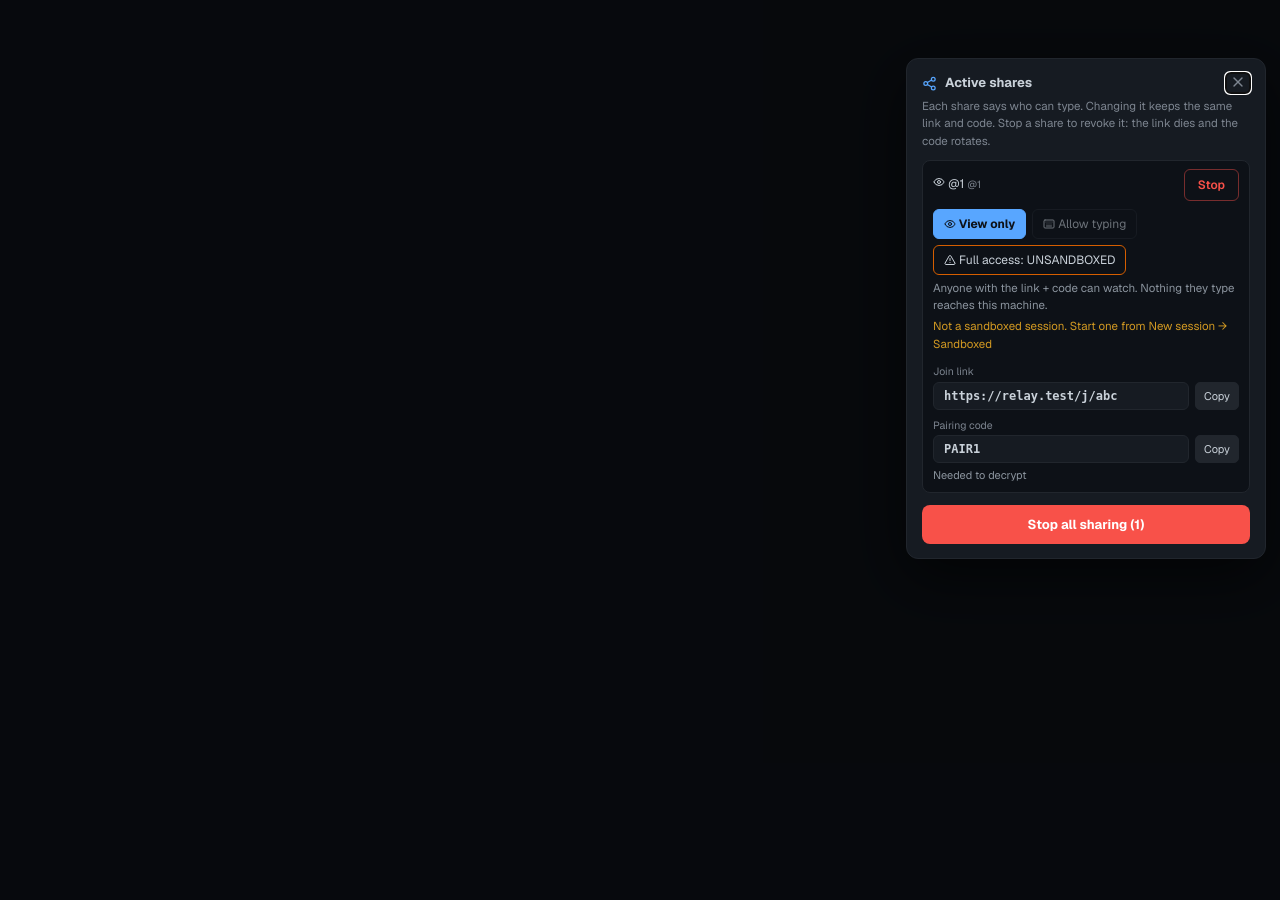
Test: up to UNSANDBOXED POSTs nothing until the window name is typed; the grant then says when it ends
This screenshot has width=1280, height=900.
Click the button "Full access: UNSANDBOXED": (1030,260) [933,245,1126,275]
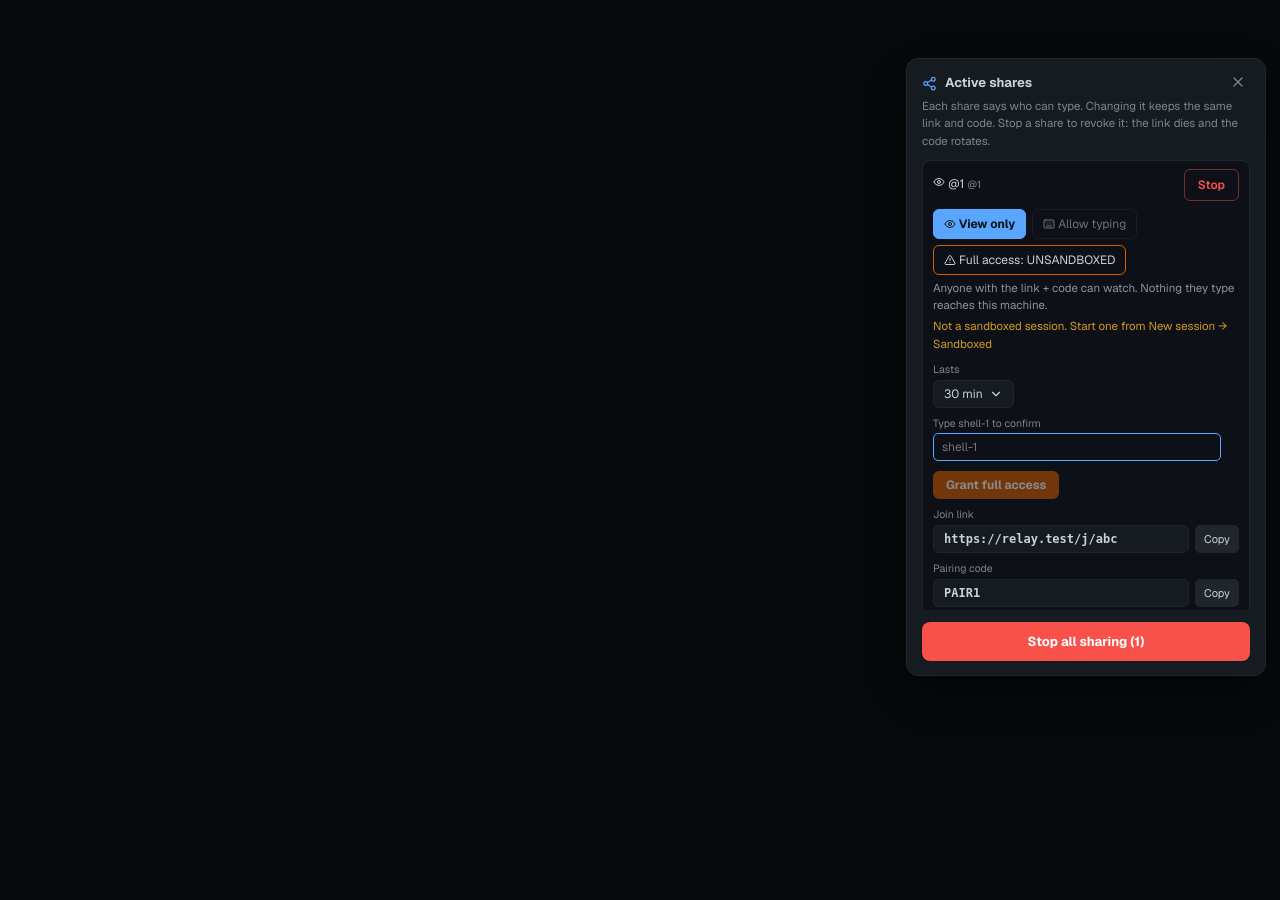
Result: the element with class "ss-unsafe-confirm" is shown at [933,362,1239,463]
Result: the button "Grant full access" is disabled at [933,471,1059,499]
In the field labelled "Type shell-1 to confirm": (1077,447) [933,433,1221,461], type "shell-2"
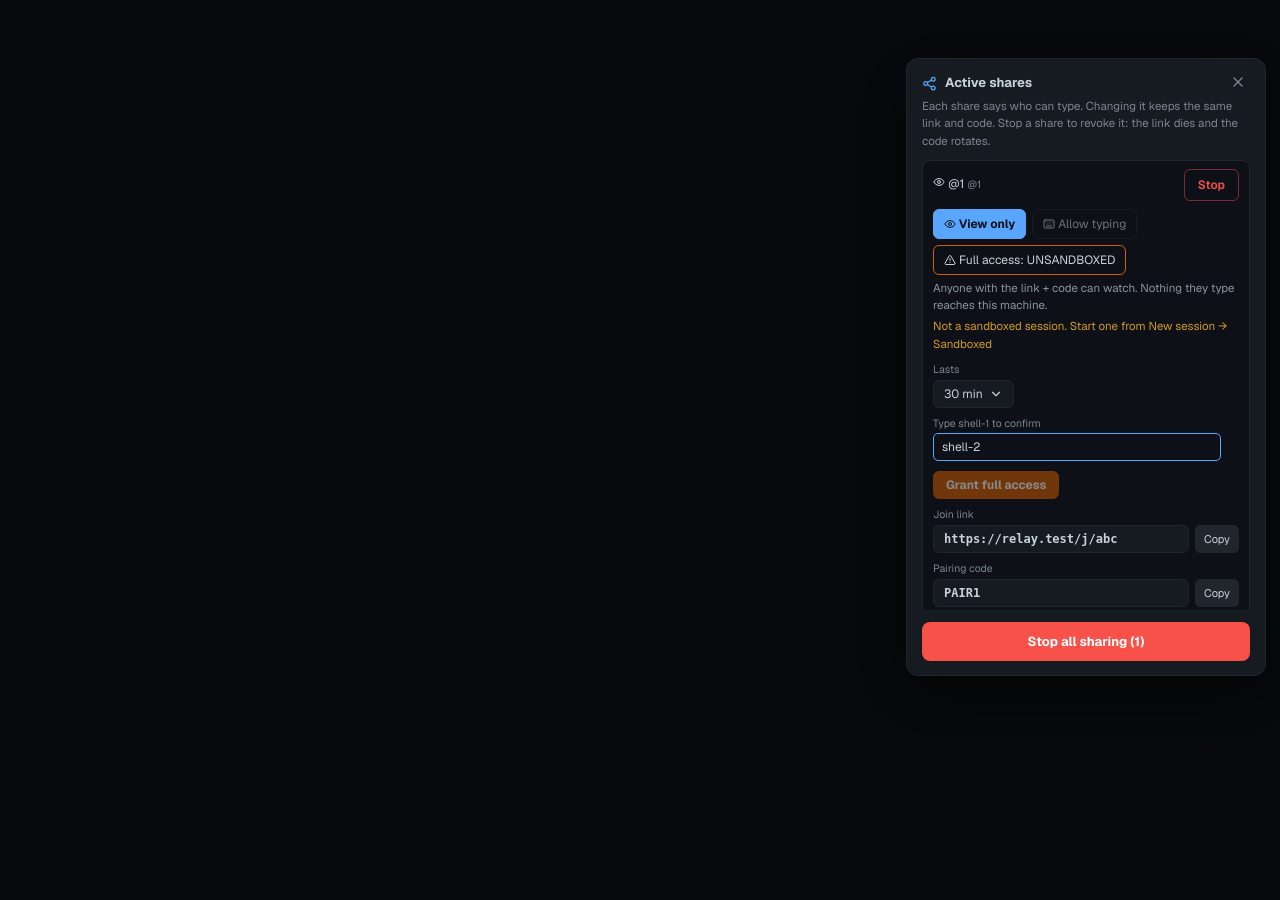
Result: the button "Grant full access" is disabled at [933,471,1059,499]
Replace the text in the field labelled "Type shell-1 to confirm" with "shell-1": (1077,447) [933,433,1221,461]
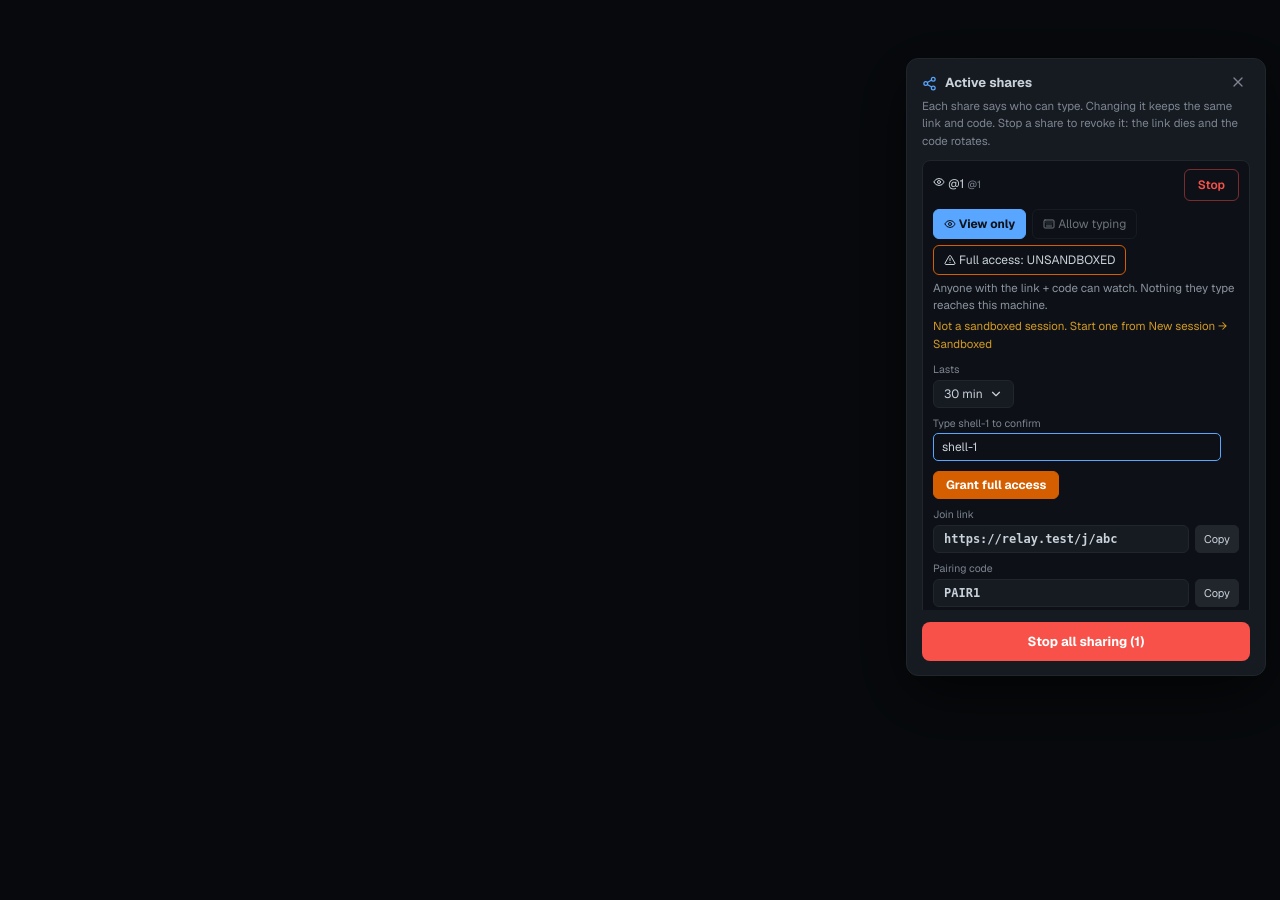
Result: the button "Grant full access" is enabled
Click the button "Grant full access": (996,485) [933,471,1059,499]
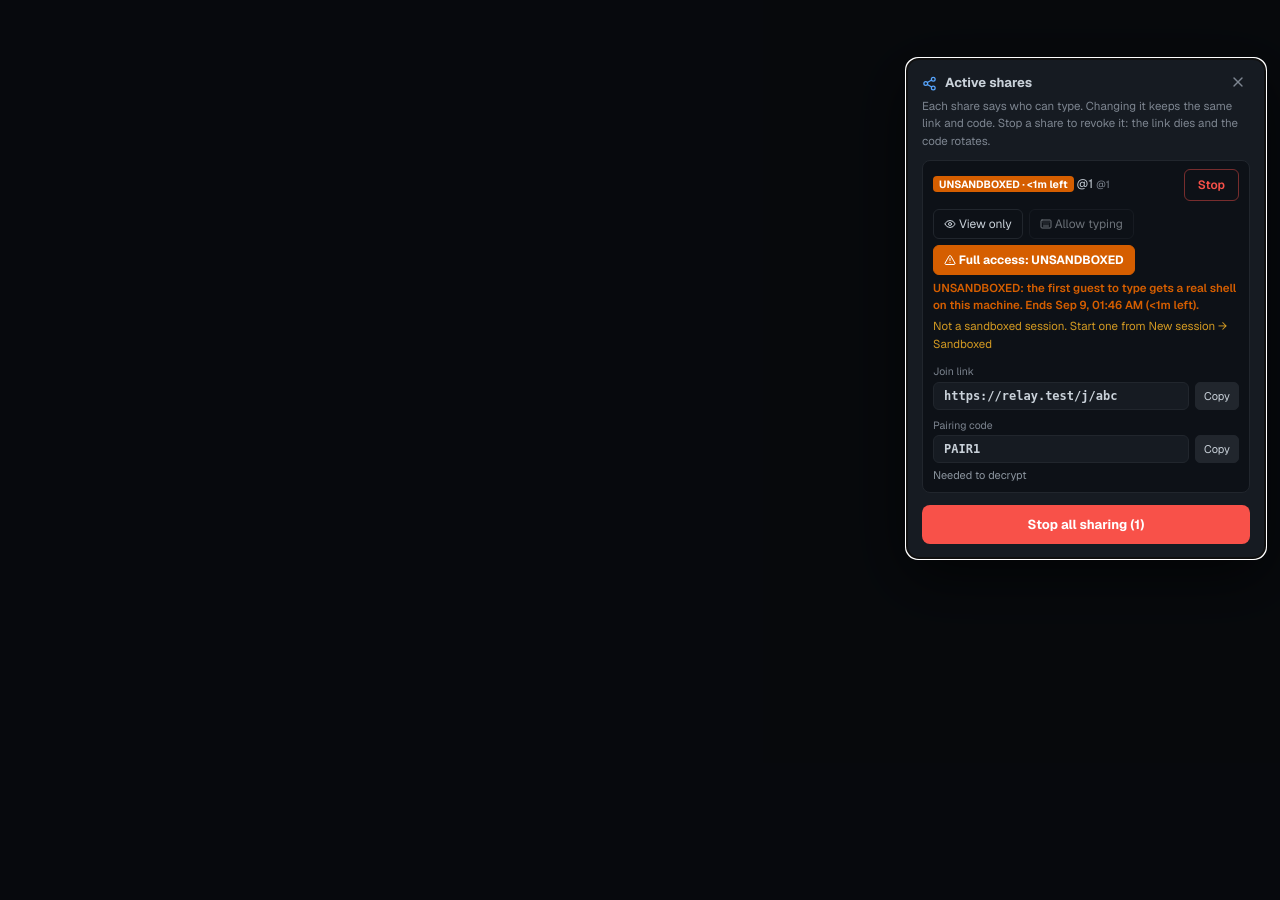
Result: the element with class "ss-unsafe-confirm" is gone
